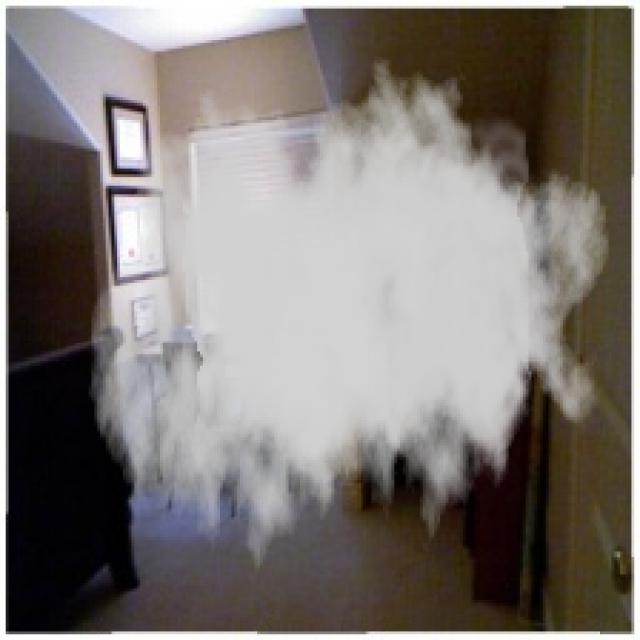smoke: (89, 49, 612, 594)
